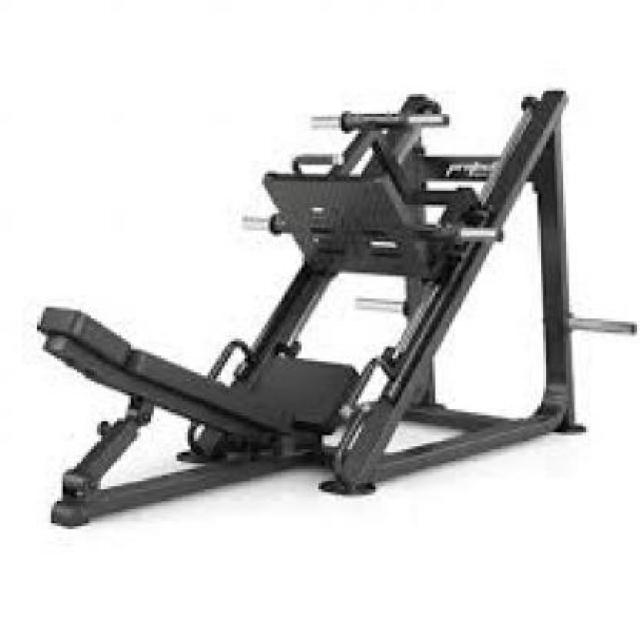leg press: (23, 74, 640, 535)
